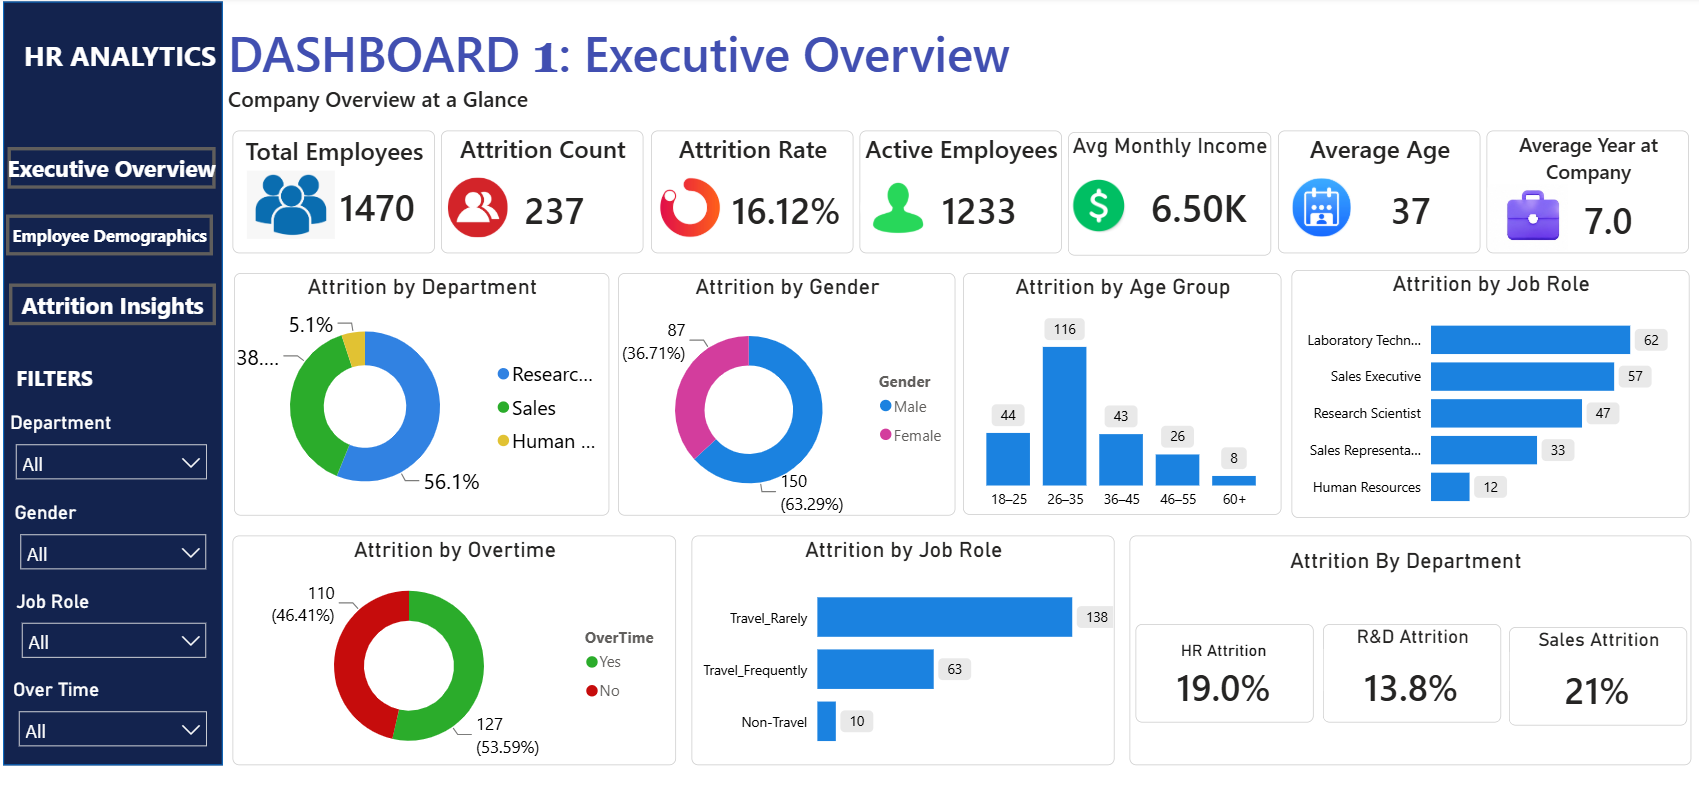

What the dashboard file says about the page in this screenshot:
{"tool":"powerbi","page":{"name":"Executive Overview","canvas":[1500,710],"ordinal":0},"visuals":[{"type":"textbox","box":[203.3,20,733.3,83.3],"z":0},{"type":"donutChart","title":"Attrition by Department","fields":{"Category":["department.Department"],"Y":["department.sum of Attrition"]},"box":[208.8,242.2,330,213.3],"z":1000},{"type":"donutChart","title":"Attrition by Gender","fields":{"Category":["HR-Employee-Attrition.Gender"],"Y":["department.sum of Attrition"]},"box":[546.3,242.2,296.7,213.3],"z":2000},{"type":"columnChart","title":"Attrition by Age Group","fields":{"Y":["department.sum of Attrition"],"Category":["HR-Employee-Attrition.age group"]},"box":[850,242.9,280,212.9],"z":3000},{"type":"barChart","title":"Attrition by Job Role","fields":{"Category":["HR-Employee-Attrition.JobRole"],"Y":["department.sum of Attrition"]},"box":[1138,240,350,218],"z":4000},{"type":"donutChart","title":"Attrition by Overtime","fields":{"Category":["HR-Employee-Attrition.OverTime"],"Y":["department.sum of Attrition"]},"box":[207,474,390,202],"z":5000},{"type":"shape","box":[5,3.3,193.3,671.7],"z":6000},{"type":"textbox","box":[24,34.7,170.7,35.3],"z":7000},{"type":"slicer","title":"Department","fields":{"Values":["department.Department"]},"box":[6.7,364,187.7,62.6],"z":8000},{"type":"slicer","title":"Gender","fields":{"Values":["HR-Employee-Attrition.Gender"]},"box":[10.8,442.9,183.6,62.6],"z":9000},{"type":"slicer","title":"Job Role","fields":{"Values":["HR-Employee-Attrition.JobRole"]},"box":[12.1,520.4,182.3,63.9],"z":10000},{"type":"slicer","title":"Over Time","fields":{"Values":["HR-Employee-Attrition.OverTime"]},"box":[9.4,599.3,185,62.6],"z":11000},{"type":"actionButton","box":[9.4,131.7,183,36.7],"z":12000},{"type":"actionButton","box":[7.7,191.4,182,36.1],"z":13000},{"type":"actionButton","box":[10.8,251.4,182,36.7],"z":14000},{"type":"textbox","box":[12,316,100,41],"z":15000},{"type":"barChart","title":"Attrition by Job Role","fields":{"Category":["HR-Employee-Attrition.BusinessTravel"],"Y":["department.sum of Attrition"]},"box":[610,474,372,202],"z":16000},{"type":"shape","box":[996,474,494,202],"z":17000},{"type":"cardVisual","title":"Total Employees","fields":{"Data":["CountNonNull(HR-Employee-Attrition.Employee ID)"]},"box":[206.8,117.9,178,108],"z":18000},{"type":"cardVisual","title":"Attrition Count","fields":{"Data":["department.sum of Attrition"]},"box":[390.6,117.9,178,108],"z":19000},{"type":"cardVisual","title":"Attrition Rate ","fields":{"Data":["HR-Employee-Attrition.Attrition Rate %"]},"box":[574.4,117.9,178,108],"z":20000},{"type":"cardVisual","title":"Active Employees","fields":{"Data":["HR-Employee-Attrition.Active Employees"]},"box":[758.2,117.9,178,108],"z":21000},{"type":"cardVisual","title":"Average Age ","fields":{"Data":["HR-Employee-Attrition.Average Age"]},"box":[1126.2,117.9,178,108],"z":22000},{"type":"cardVisual","title":"Average Year at Company ","fields":{"Data":["HR-Employee-Attrition.Average Years at Company"]},"box":[1310,118,178,108],"z":23000},{"type":"cardVisual","title":"Avg Monthly Income","fields":{"Data":["HR-Employee-Attrition.Average Monthly Income"]},"box":[942,118.2,178.3,108.3],"z":24000},{"type":"cardVisual","title":"HR Attrition","fields":{"Data":["department.HR Attrition"]},"box":[1001.3,551.3,156.7,86.7],"z":25000},{"type":"textbox","box":[1136.7,484.7,218.7,35.3],"z":25500},{"type":"cardVisual","title":"R&D Attrition","fields":{"Data":["department.R&D Attrition"]},"box":[1165.7,551.3,156.7,86.7],"z":26000},{"type":"cardVisual","title":"Sales Attrition","fields":{"Data":["department.sales Attrition"]},"box":[1330,553.3,156.7,86.7],"z":28000}]}

Visuals, with their boxes in screenshot pixels (x1, y1, x2, y2), scaled from the page's 1500x710 canvas onto the 1699x790 screenshot:
textbox: 230:22:1061:115
"Attrition by Department" donutChart: 237:269:610:507
"Attrition by Gender" donutChart: 619:269:955:507
"Attrition by Age Group" columnChart: 963:270:1280:507
"Attrition by Job Role" barChart: 1289:267:1685:510
"Attrition by Overtime" donutChart: 234:527:676:752
shape: 6:4:225:751
textbox: 27:39:221:78
"Department" slicer: 8:405:220:475
"Gender" slicer: 12:493:220:562
"Job Role" slicer: 14:579:220:650
"Over Time" slicer: 11:667:220:736
actionButton: 11:147:218:187
actionButton: 9:213:215:253
actionButton: 12:280:218:321
textbox: 14:352:127:397
"Attrition by Job Role" barChart: 691:527:1112:752
shape: 1128:527:1688:752
"Total Employees" cardVisual: 234:131:436:251
"Attrition Count" cardVisual: 442:131:644:251
"Attrition Rate " cardVisual: 651:131:852:251
"Active Employees" cardVisual: 859:131:1060:251
"Average Age " cardVisual: 1276:131:1477:251
"Average Year at Company " cardVisual: 1484:131:1685:251
"Avg Monthly Income" cardVisual: 1067:132:1269:252
"HR Attrition" cardVisual: 1134:613:1312:710
textbox: 1288:539:1535:579
"R&D Attrition" cardVisual: 1320:613:1498:710
"Sales Attrition" cardVisual: 1506:616:1684:712
